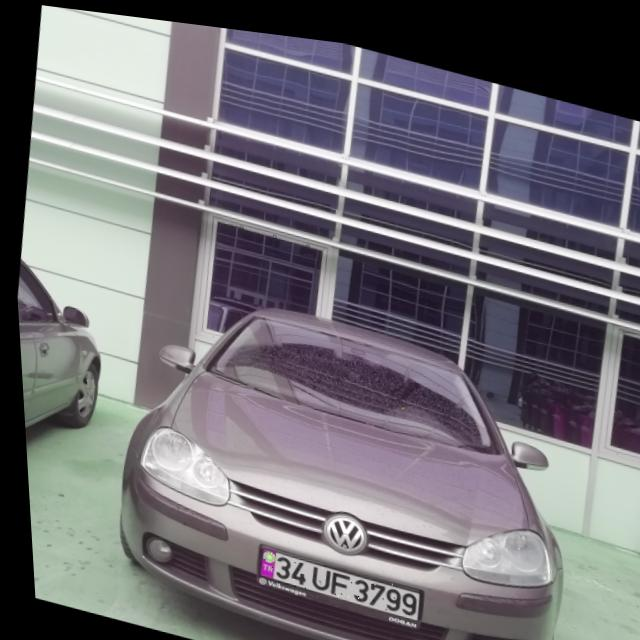license_plate: (249, 541, 419, 611)
